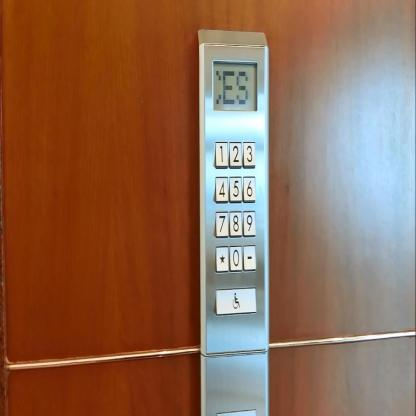-: (243, 244, 256, 272)
0: (229, 244, 242, 272)
1: (214, 141, 228, 168)
2: (229, 140, 242, 169)
3: (242, 140, 256, 167)
4: (214, 175, 228, 204)
5: (228, 174, 242, 204)
6: (242, 175, 256, 203)
7: (215, 210, 228, 237)
8: (229, 210, 242, 237)
9: (243, 209, 256, 237)
CH: (215, 286, 257, 316)
led: (211, 58, 258, 112)
s: (215, 244, 229, 273)
